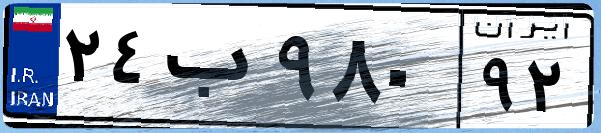0: (385, 28, 445, 110)
2: (57, 26, 110, 100), (525, 38, 570, 115)
4: (110, 28, 158, 98)
8: (330, 28, 385, 110)
9: (270, 28, 330, 110), (475, 38, 525, 113)
ب: (158, 20, 270, 120)
